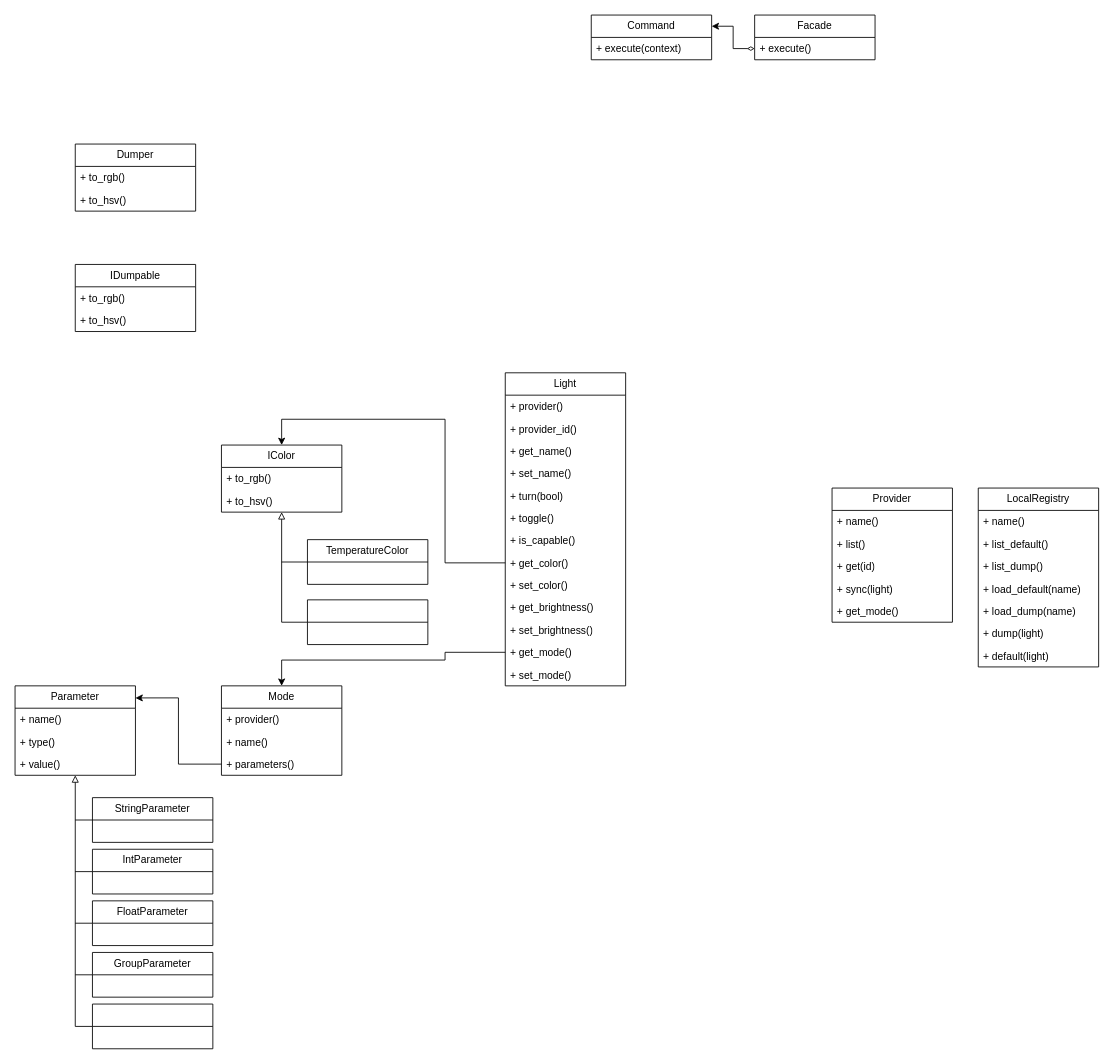
Image size: 1114x1064. Some labels were removed from this diagram. The centre of each missing label's shape, as x and y in pixels:
"ArrayParameter" goes at (x=152, y=1026).
"RGBColor" goes at (x=367, y=622).
